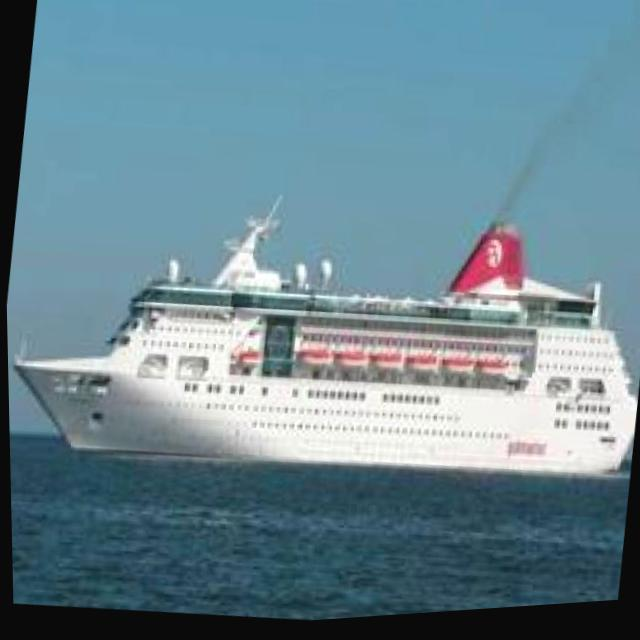ship2: (11, 206, 636, 487)
